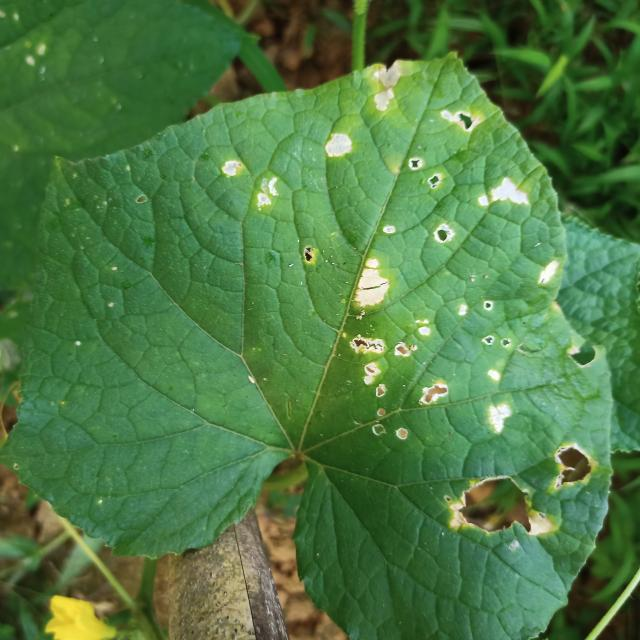disease_cucumber: (344, 316, 453, 444), (444, 468, 558, 552), (215, 157, 285, 212), (353, 251, 394, 316), (474, 170, 533, 214), (555, 442, 598, 492), (371, 60, 406, 115), (406, 151, 449, 193), (479, 399, 518, 443), (438, 102, 483, 138), (322, 128, 358, 163), (536, 256, 562, 290), (432, 217, 453, 248)
